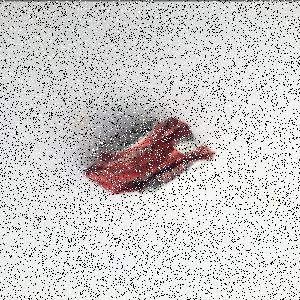Can: (83, 116, 217, 196)
